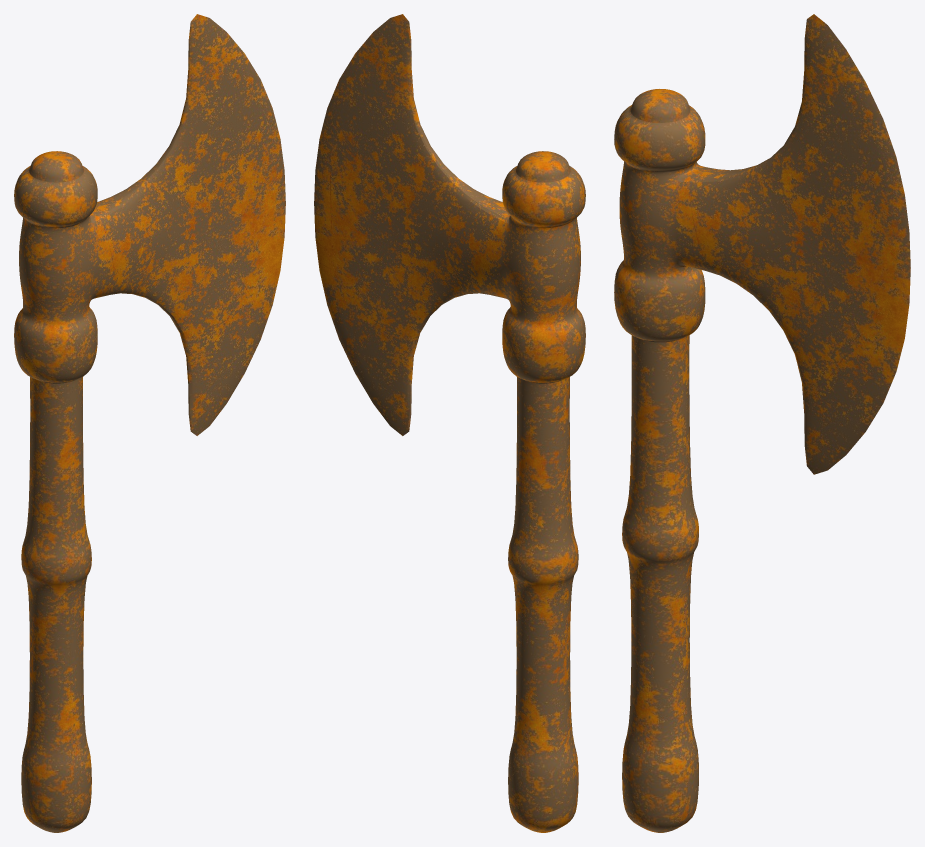
File: rusted_gold-axe.glb
3 renders of one model, left to right at view 1: azimuth 30°, elevation 25°; view 2: azimuth 150°, elevation 25°; view 3: azimuth 330°, elevation 25°, orthographic. The views are drawn at different scales.
Visible parts, largest first — view 1: WARAXE; view 2: WARAXE; view 3: WARAXE.
Part boxes in pixels (box(x1,y1,x2,y2)): WARAXE: box(14, 14, 285, 832); WARAXE: box(314, 14, 585, 832); WARAXE: box(614, 14, 910, 832).
Bounding box in the file's own units: 0.4847 × 1.36 × 0.132.
1 material, 1 textured.
